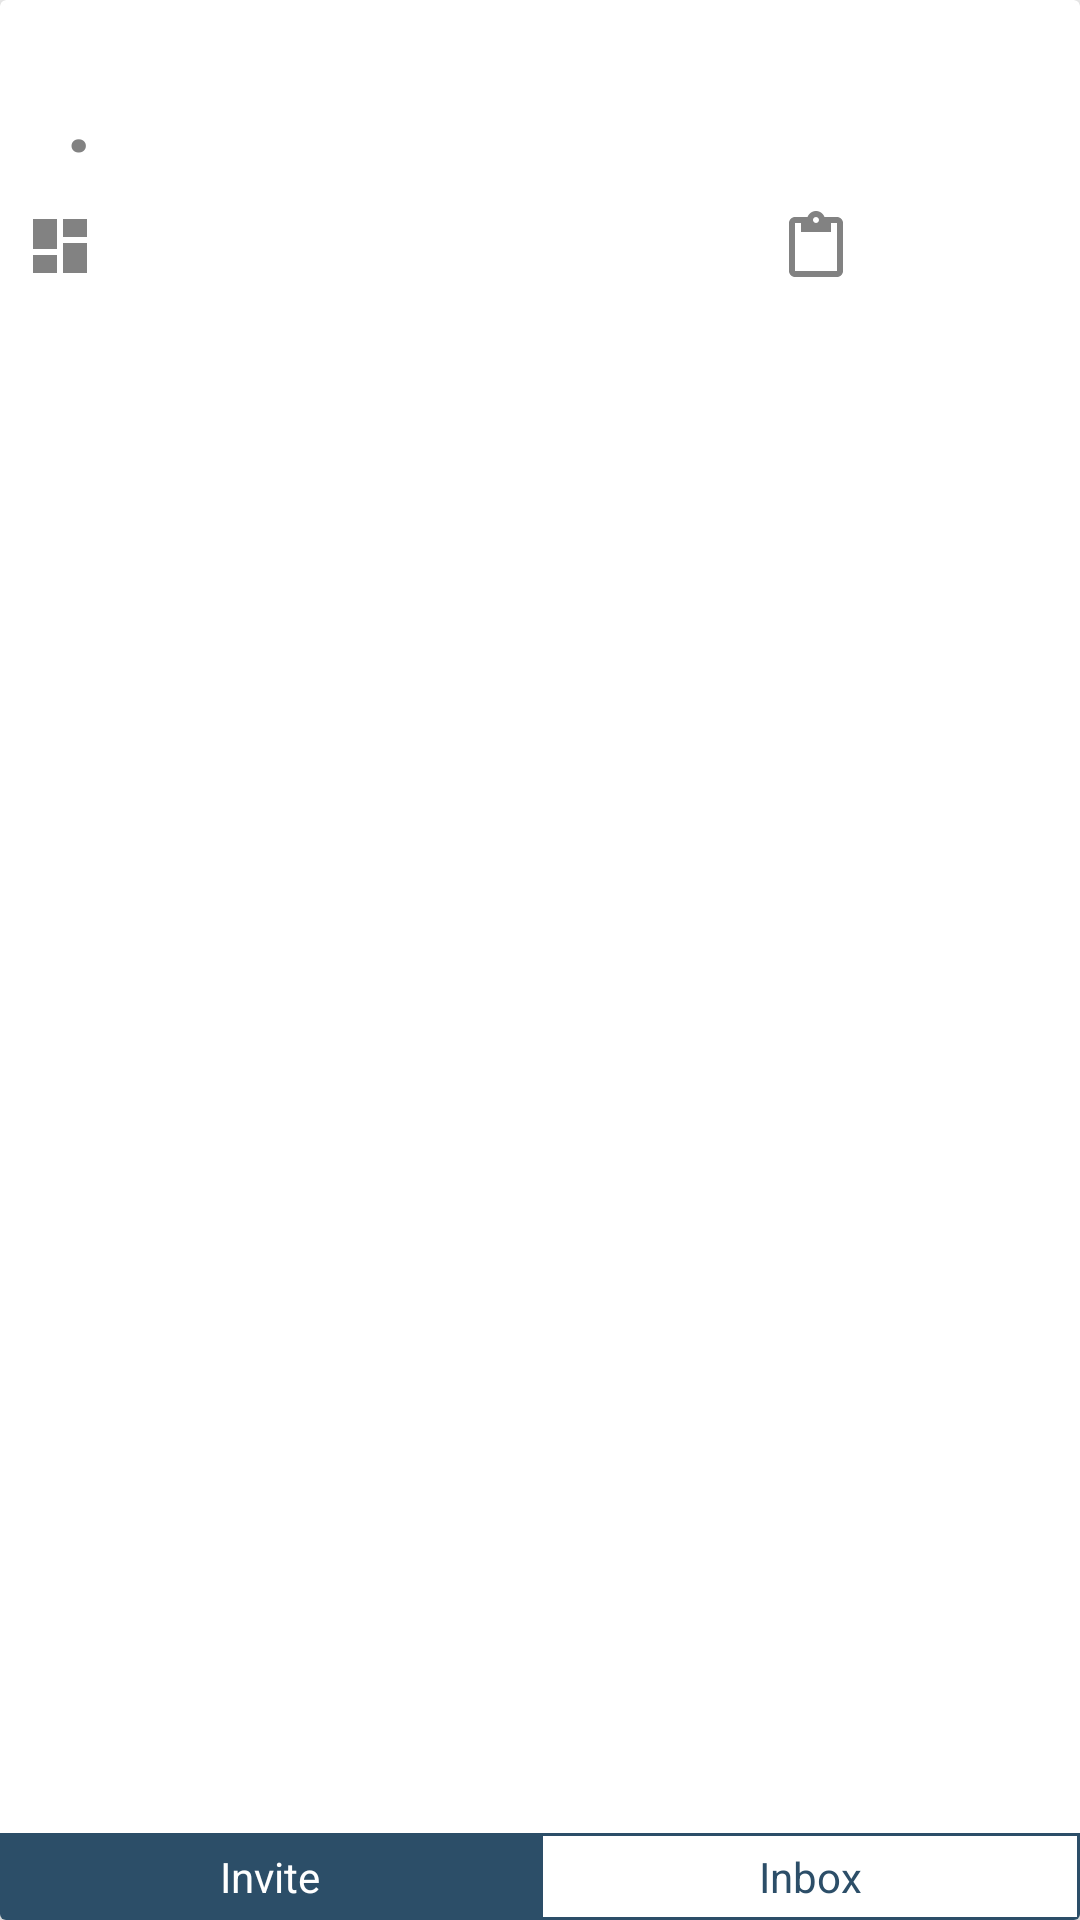

Where icons sit on this 1080x1920 app screen, as {"x1": x1, "y1": y1, "x2": x2, "y2": y2}:
dashboard: {"x1": 33, "y1": 219, "x2": 87, "y2": 273}
